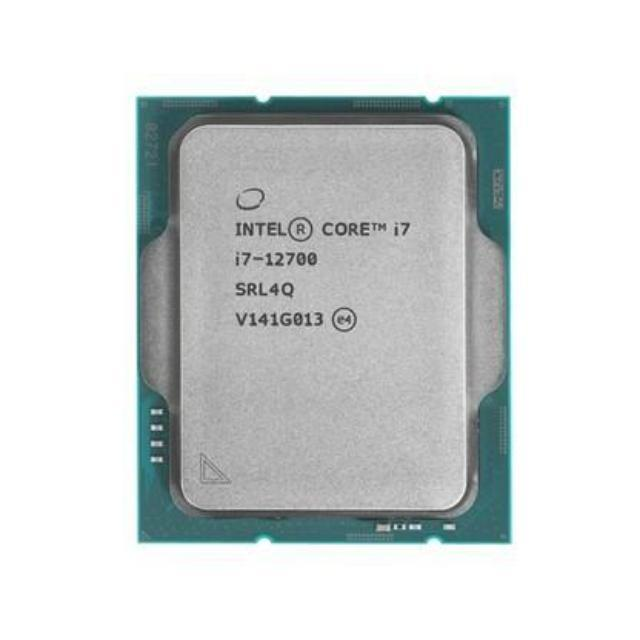CPU: (142, 102, 506, 538)
